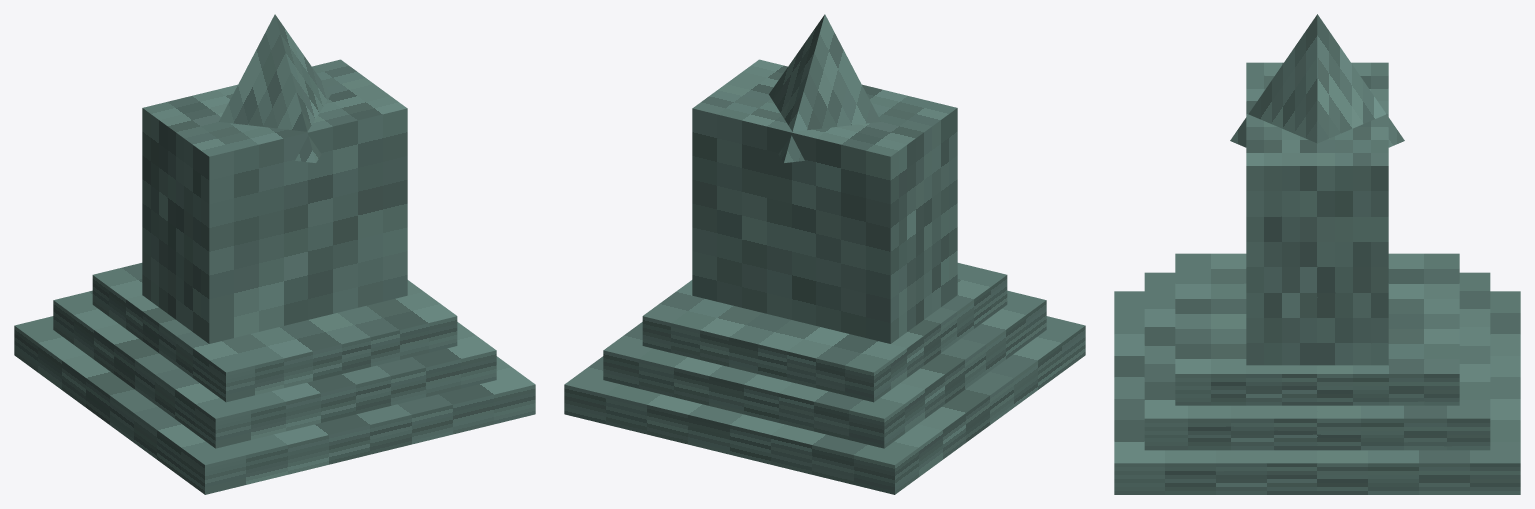
The model's file is shrine_56.glb.
The picture shows the model from 3 angles, left to right: view 1: azimuth 30°, elevation 25°; view 2: azimuth 150°, elevation 25°; view 3: azimuth 270°, elevation 25°; orthographic projection. The views are drawn at different scales.
Visible parts, largest first — view 1: Altar, Base, Base.001, Base.002, SacredSpire; view 2: Altar, Base, Base.001, Base.002, SacredSpire; view 3: Altar, Base, Base.002, Base.001, SacredSpire.
Boxes of the visible parts, x1=… form: Altar: x1=142, y1=59, x2=407, y2=343; Base: x1=14, y1=316, x2=535, y2=494; Base.001: x1=53, y1=290, x2=496, y2=448; Base.002: x1=92, y1=263, x2=457, y2=402; SacredSpire: x1=219, y1=14, x2=330, y2=162; Altar: x1=692, y1=59, x2=957, y2=343; Base: x1=564, y1=316, x2=1085, y2=494; Base.001: x1=603, y1=290, x2=1046, y2=448; Base.002: x1=642, y1=263, x2=1007, y2=402; SacredSpire: x1=769, y1=14, x2=880, y2=162; Altar: x1=1246, y1=62, x2=1388, y2=365; Base: x1=1114, y1=291, x2=1520, y2=494; Base.002: x1=1175, y1=253, x2=1459, y2=405; Base.001: x1=1144, y1=272, x2=1490, y2=450; SacredSpire: x1=1230, y1=14, x2=1404, y2=147.
Bounding box in the file's own units: 2.32 × 2.49 × 2.32.
Materials: 1 (1 with a texture image).
